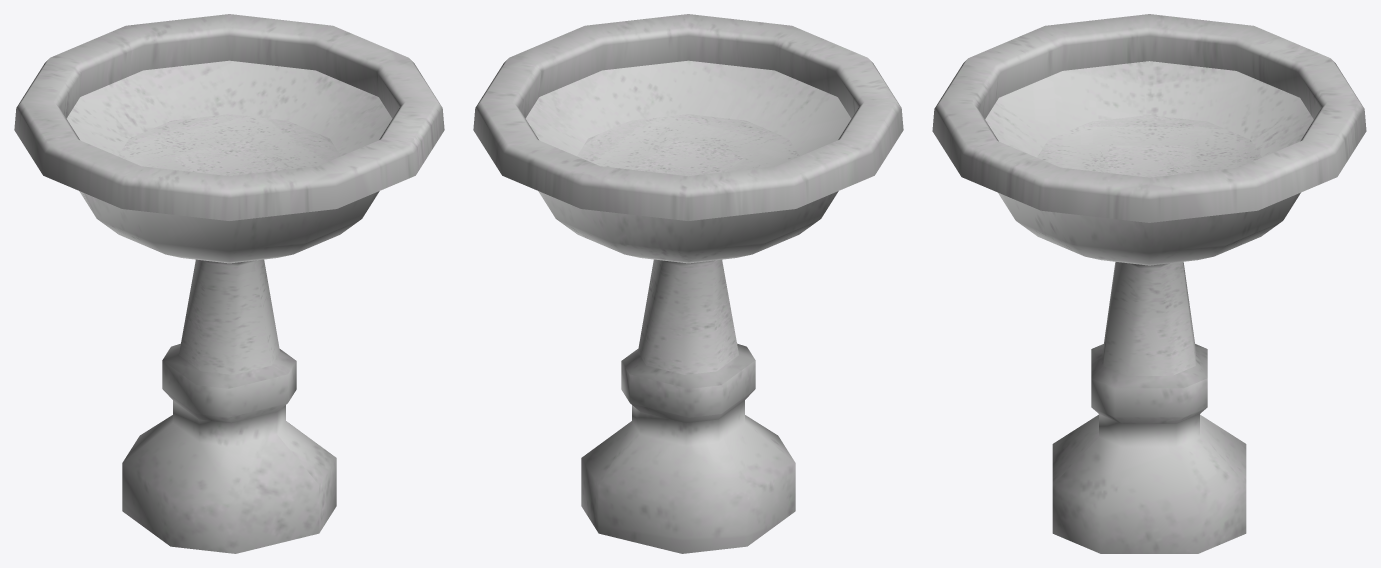
File: BirdBathHand.fbx
The picture shows the model from 3 angles, left to right: view 1: azimuth 30°, elevation 25°; view 2: azimuth 150°, elevation 25°; view 3: azimuth 270°, elevation 25°; orthographic projection.
Visible parts, largest first — view 1: FencePost (1); view 2: FencePost (1); view 3: FencePost (1).
Boxes of the visible parts, x1,y1,x2,y2 form: FencePost (1): (14, 14, 444, 553); FencePost (1): (473, 14, 903, 553); FencePost (1): (932, 14, 1366, 553).
Bounding box in the file's own units: 0.6988 × 0.7295 × 0.6988.
